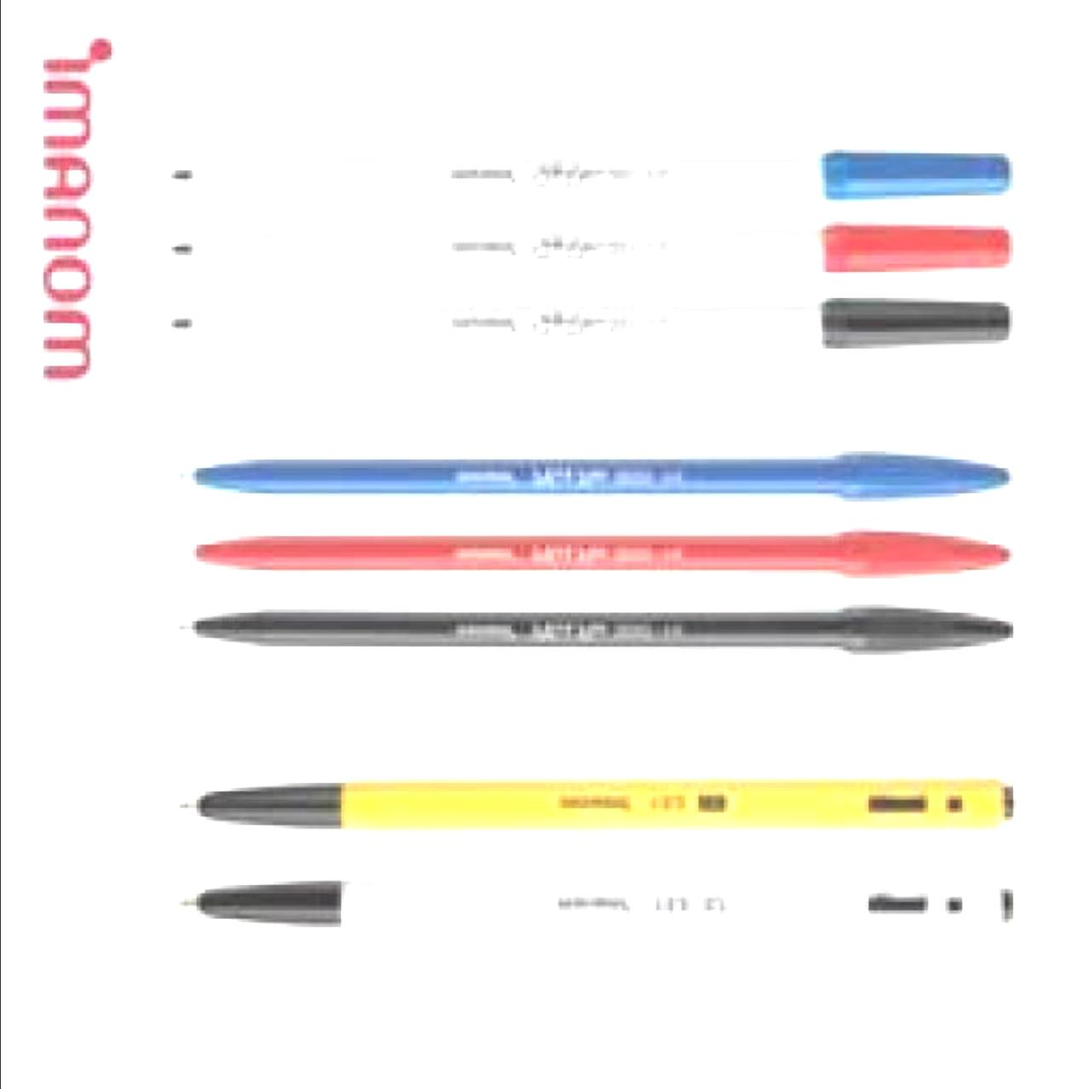pen: (165, 868, 1021, 936)
